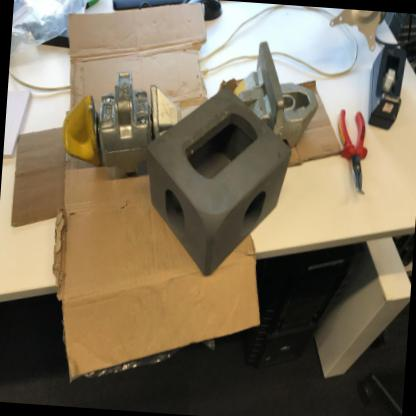CornerCasting: (138, 81, 302, 280)
Twistlock: (48, 70, 190, 176), (240, 36, 327, 152)
